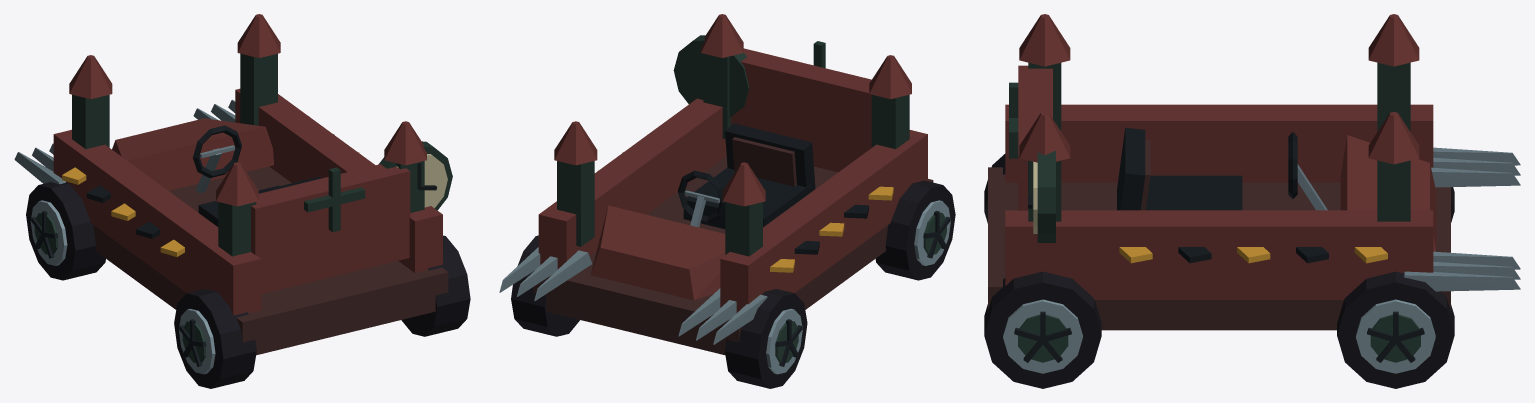
Rendered from kart.glb.
3 views of the same model, side by side, from view 1: azimuth 30°, elevation 25°; view 2: azimuth 150°, elevation 25°; view 3: azimuth 270°, elevation 25° (orthographic). The views are drawn at different scales.
Visible parts, largest first — view 1: identity-reliquary-reliquary-arched-stone-chest, wheel-rear-left, wheel-front-left, wheel-rear-right, identity-reliquary-driver-cockpit, identity-reliquary-motif-clock, identity-reliquary-motif-hazard-stripes, identity-reliquary-motif-claws; view 2: identity-reliquary-reliquary-arched-stone-chest, identity-reliquary-driver-cockpit, wheel-front-left, wheel-rear-left, identity-reliquary-motif-claws, identity-reliquary-motif-clock, wheel-front-right, identity-reliquary-motif-hazard-stripes; view 3: identity-reliquary-reliquary-arched-stone-chest, wheel-rear-right, wheel-front-right, identity-reliquary-driver-cockpit, identity-reliquary-motif-claws, identity-reliquary-motif-hazard-stripes, identity-reliquary-motif-clock.
Boxes of the visible parts, bbox=[...] form: identity-reliquary-reliquary-arched-stone-chest: bbox=[53, 14, 448, 355]; wheel-rear-left: bbox=[174, 289, 256, 388]; wheel-front-left: bbox=[26, 182, 105, 280]; wheel-rear-right: bbox=[401, 235, 470, 336]; identity-reliquary-driver-cockpit: bbox=[192, 125, 321, 226]; identity-reliquary-motif-clock: bbox=[378, 141, 452, 210]; identity-reliquary-motif-hazard-stripes: bbox=[62, 116, 359, 256]; identity-reliquary-motif-claws: bbox=[14, 99, 235, 184]; identity-reliquary-reliquary-arched-stone-chest: bbox=[533, 14, 933, 354]; identity-reliquary-driver-cockpit: bbox=[678, 123, 815, 229]; wheel-front-left: bbox=[724, 289, 807, 388]; wheel-rear-left: bbox=[875, 180, 955, 280]; identity-reliquary-motif-claws: bbox=[499, 247, 767, 344]; identity-reliquary-motif-clock: bbox=[673, 35, 749, 117]; wheel-front-right: bbox=[511, 235, 579, 336]; identity-reliquary-motif-hazard-stripes: bbox=[598, 134, 893, 272]; identity-reliquary-reliquary-arched-stone-chest: bbox=[988, 14, 1450, 330]; wheel-rear-right: bbox=[984, 271, 1101, 388]; wheel-front-right: bbox=[1337, 271, 1454, 388]; identity-reliquary-driver-cockpit: bbox=[1117, 127, 1327, 210]; identity-reliquary-motif-claws: bbox=[1403, 147, 1520, 291]; identity-reliquary-motif-hazard-stripes: bbox=[1119, 247, 1387, 263]; identity-reliquary-motif-clock: bbox=[1028, 150, 1055, 242].
Size of the model in its own units: 1.97 by 1.51 by 2.92.
